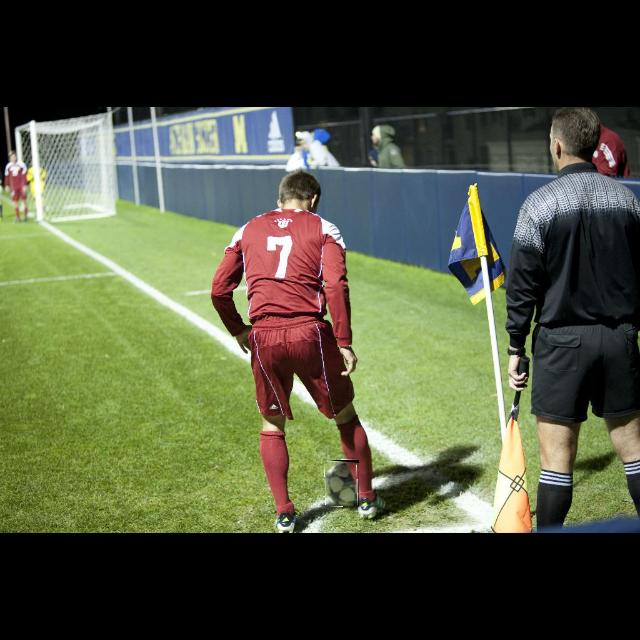Football: (325, 460, 359, 506)
